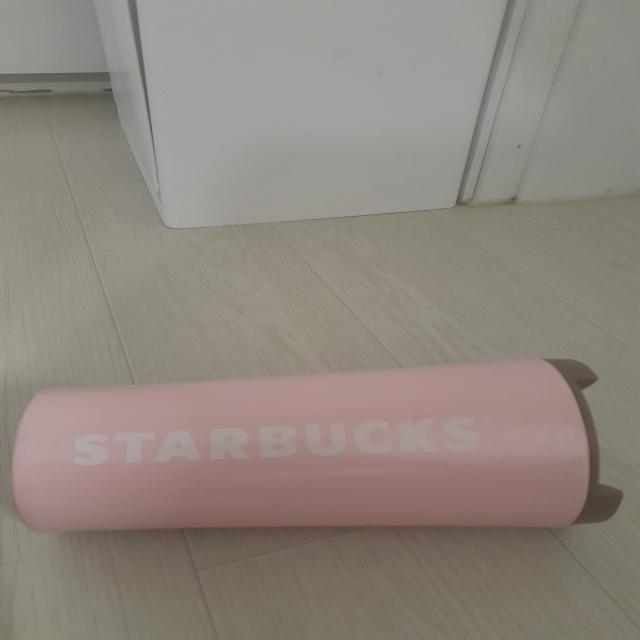waterbottle: (15, 356, 625, 526)
